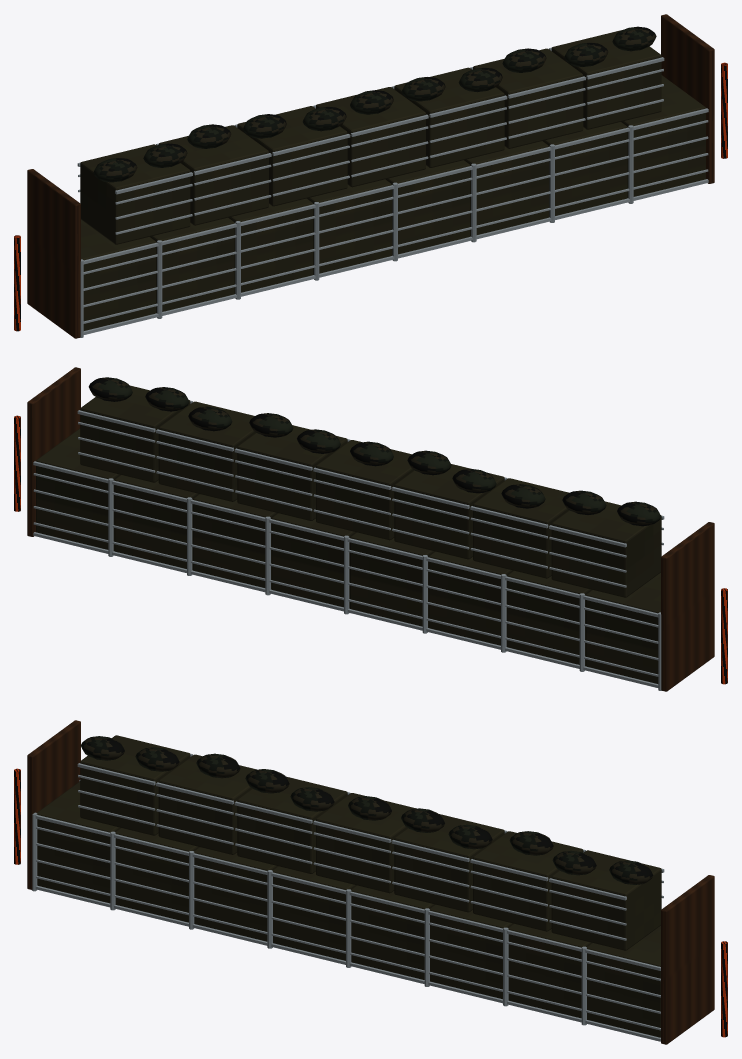
Rendered from fac_revet.glb.
3 renders of one model, top to bottom at view 1: azimuth 30°, elevation 25°; view 2: azimuth 150°, elevation 25°; view 3: azimuth 330°, elevation 25°, orthographic.
Visible parts, largest first — view 1: FAC_REVET; view 2: FAC_REVET; view 3: FAC_REVET.
Boxes of the visible parts, bbox=[...] form: FAC_REVET: bbox=[14, 14, 727, 338]; FAC_REVET: bbox=[14, 367, 727, 691]; FAC_REVET: bbox=[14, 720, 727, 1044].
Bounding box in the file's own units: 13.62 × 2.76 × 1.63.
Materials: 5 (4 with a texture image).
